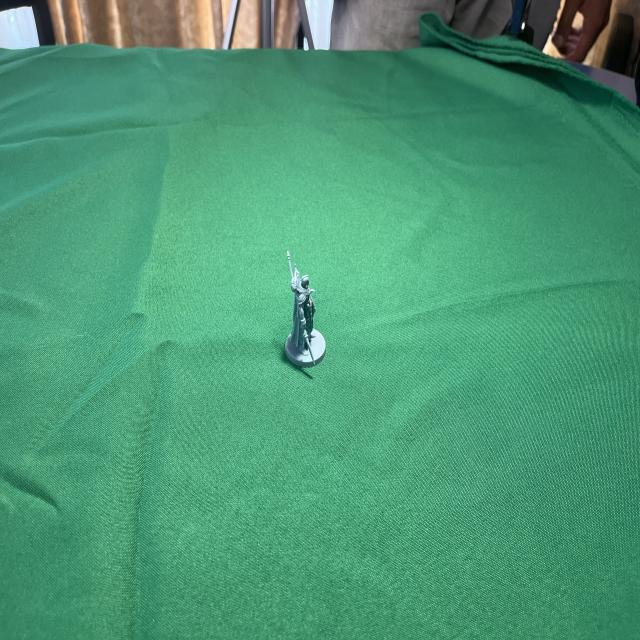isis_follower: (275, 239, 334, 366)
